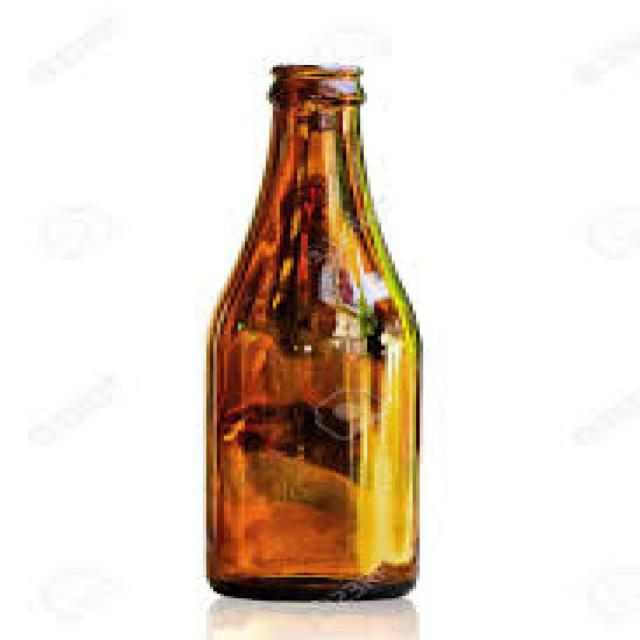glass: (199, 63, 420, 601)
